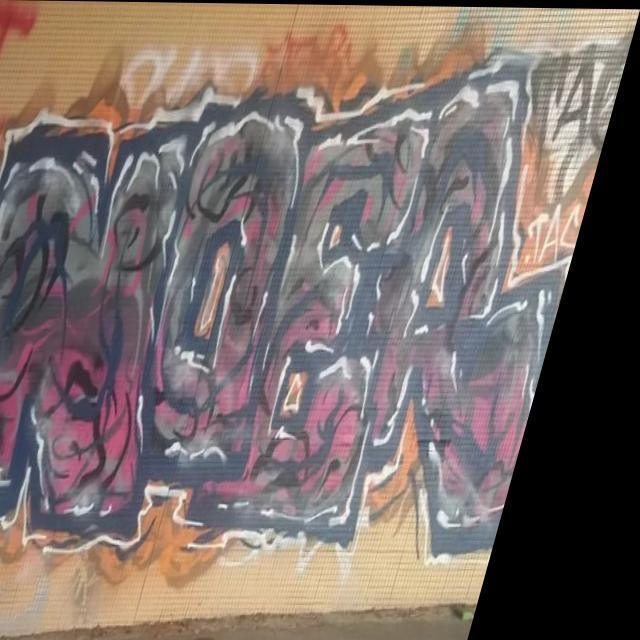-: (0, 52, 629, 573)
